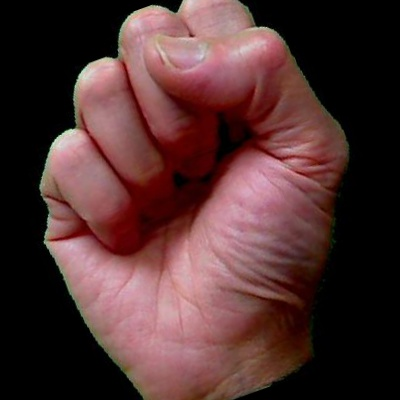s: (2, 3, 400, 388)
